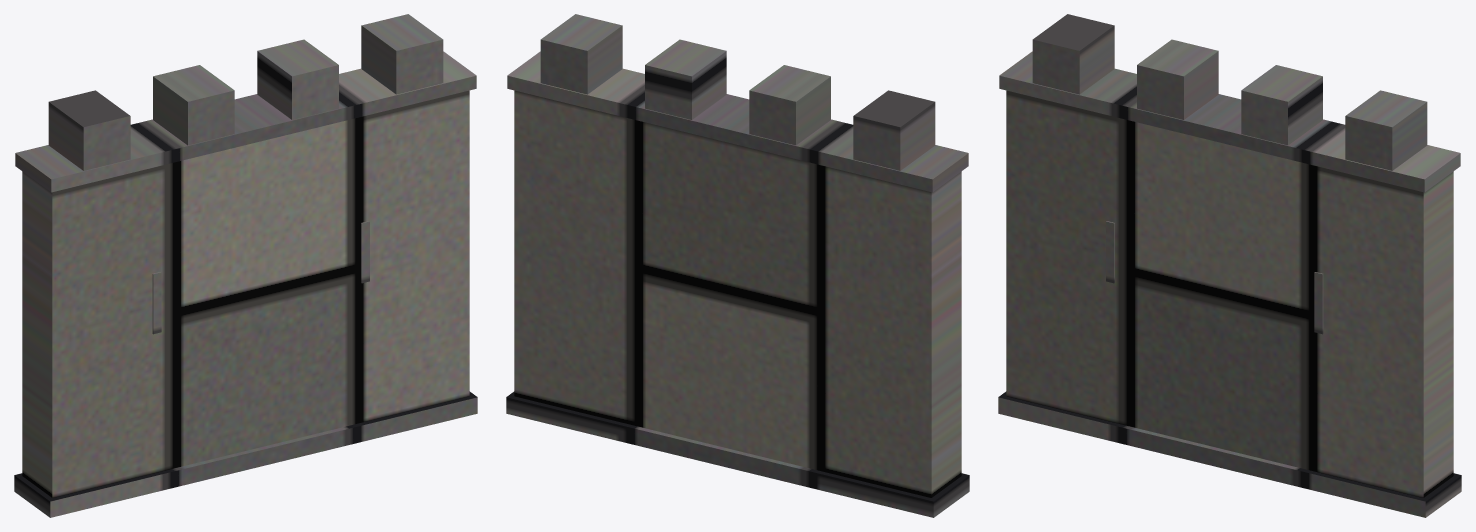
The model's file is CastleCurtainWall.glb.
3 renders of one model, left to right at view 1: azimuth 30°, elevation 25°; view 2: azimuth 150°, elevation 25°; view 3: azimuth 330°, elevation 25°, orthographic.
Visible parts, largest first — view 1: CastleCurtainWall; view 2: CastleCurtainWall; view 3: CastleCurtainWall.
Part boxes in pixels (x1=…): CastleCurtainWall: x1=14, y1=14, x2=477, y2=517; CastleCurtainWall: x1=506, y1=14, x2=969, y2=517; CastleCurtainWall: x1=998, y1=14, x2=1461, y2=517.
Size of the model in its own units: 4.1 by 3.5 by 0.6.
2 materials, 2 textured.
